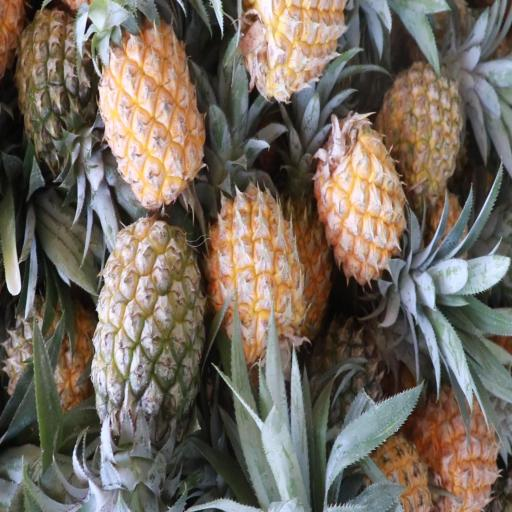------------------------------: (97, 218, 202, 437), (6, 292, 97, 428), (381, 65, 464, 199)
Pineapple - v8 v1: (99, 15, 203, 199), (210, 190, 304, 366), (319, 118, 405, 288), (418, 378, 496, 511), (249, 0, 347, 100)
